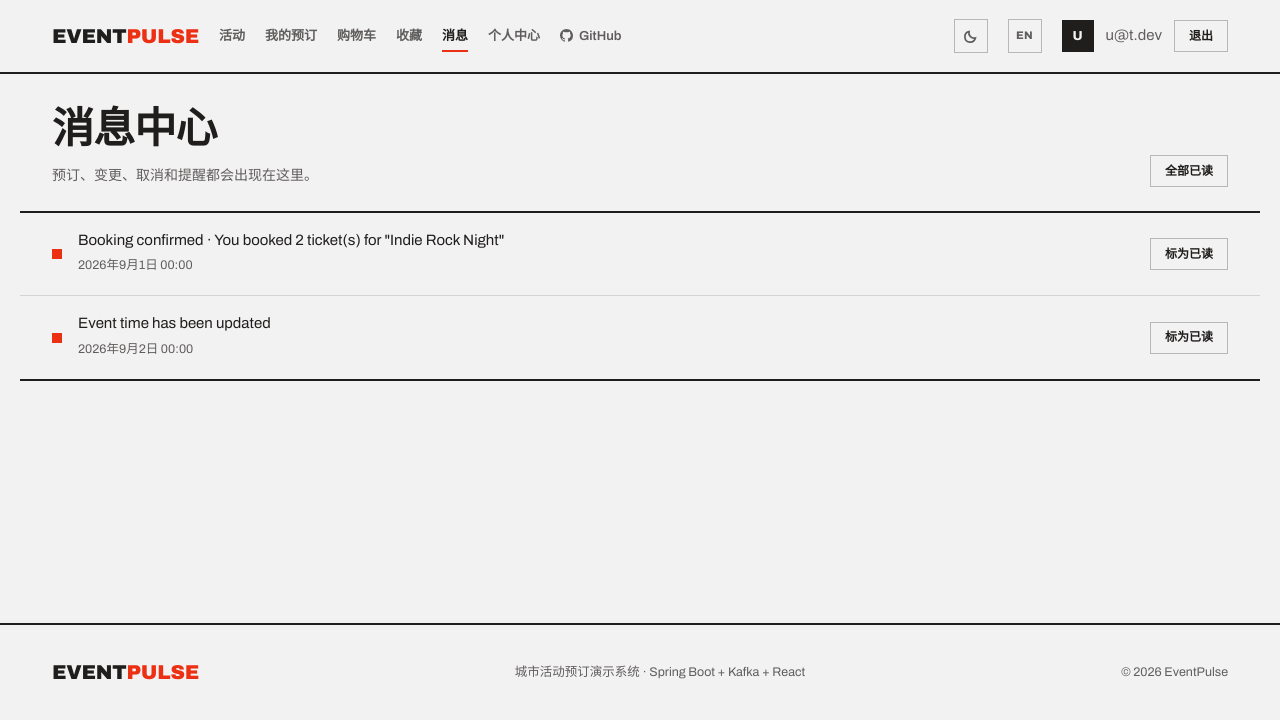
Test case: NotificationsPage › clears the whole inbox with 全部已读
The image size is (1280, 720).
Expected: the text "Event time has been updated" is shown, [78,315,271,331]
Click the button "全部已读": (1189, 171) [1150,155,1228,187]
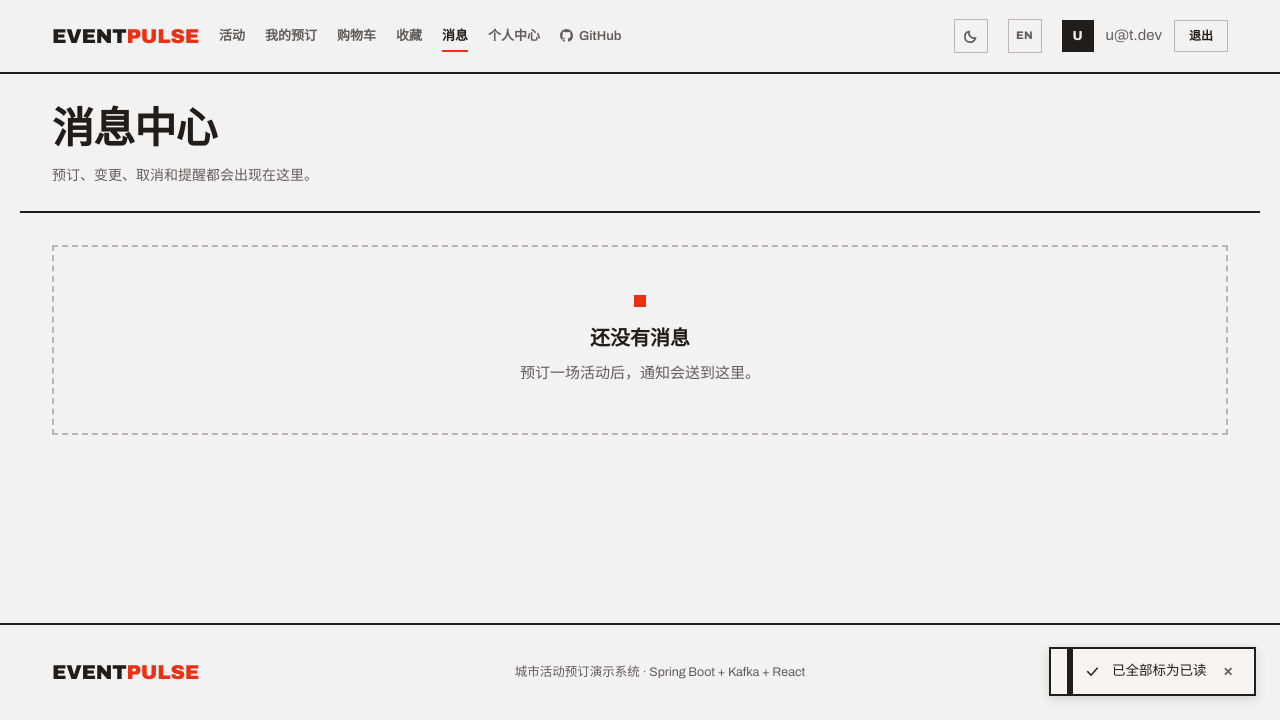
Now the text "还没有消息" is shown, box [590,327,690,349]
Now the button "全部已读" is gone
